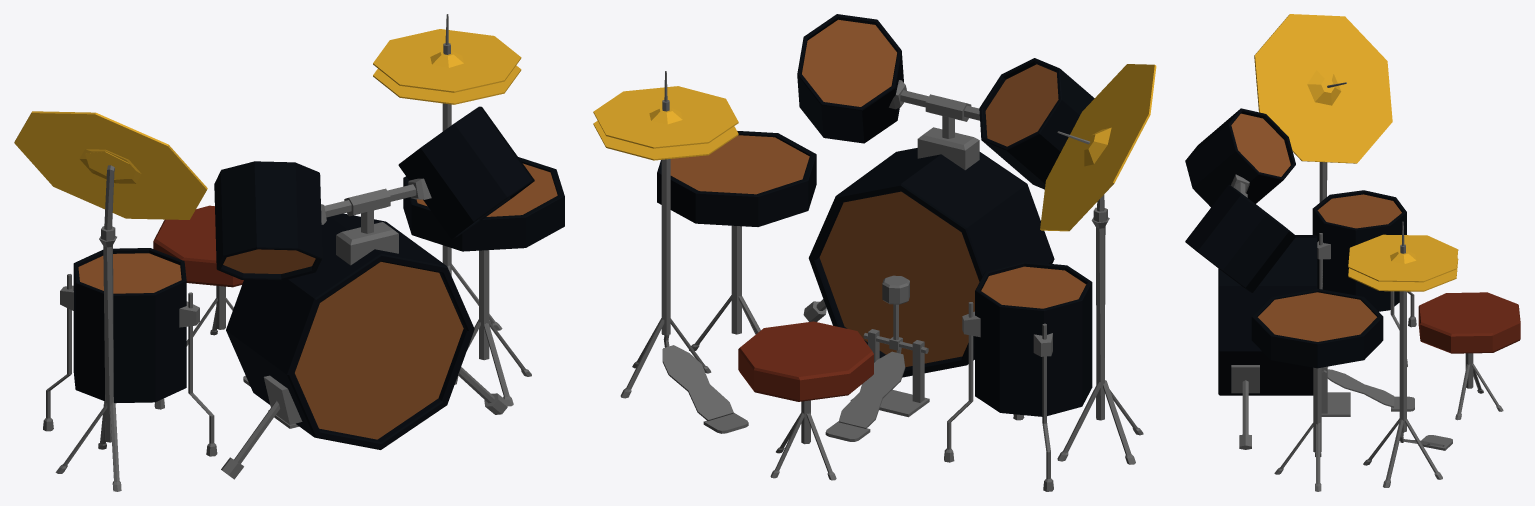
File: DrumSet.fbx
The picture shows the model from 3 angles, left to right: view 1: azimuth 30°, elevation 25°; view 2: azimuth 150°, elevation 25°; view 3: azimuth 270°, elevation 25°; orthographic projection. The views are drawn at different scales.
Visible parts, largest first — view 1: DrumSet1; view 2: DrumSet1; view 3: DrumSet1.
Boxes of the visible parts, <box> form: DrumSet1: <box>14,14,564,491</box>; DrumSet1: <box>593,14,1156,491</box>; DrumSet1: <box>1185,14,1520,491</box>.
Bounding box in the file's own units: 244 × 175 × 175.
